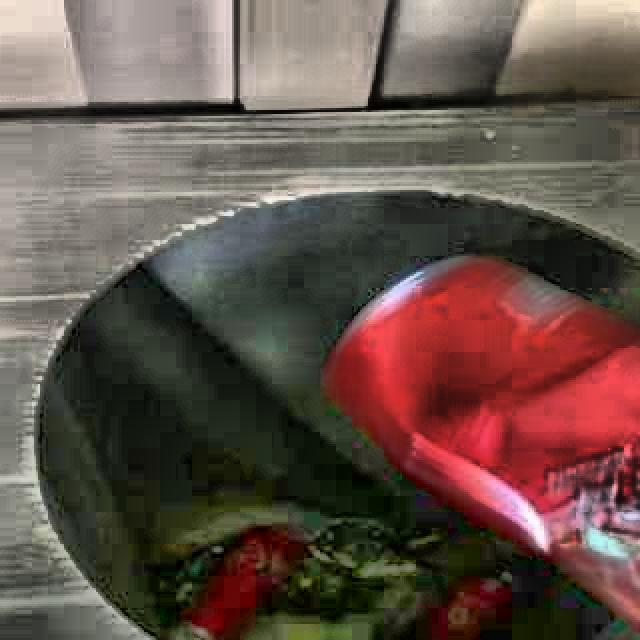metal: (331, 258, 640, 625)
